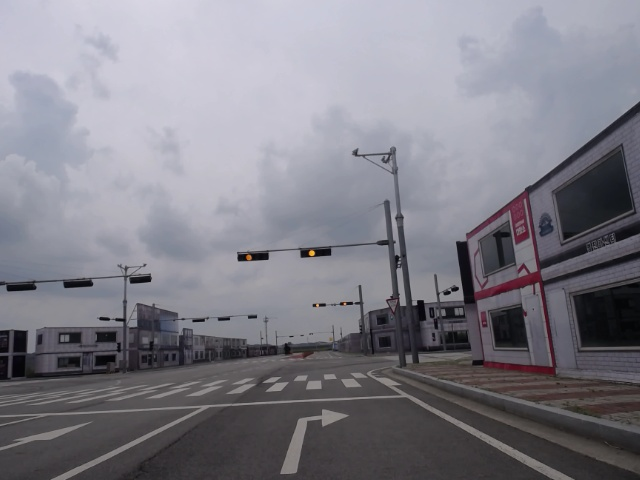orange_4: (236, 250, 271, 262), (299, 247, 333, 259), (311, 301, 328, 309), (338, 301, 354, 308)
